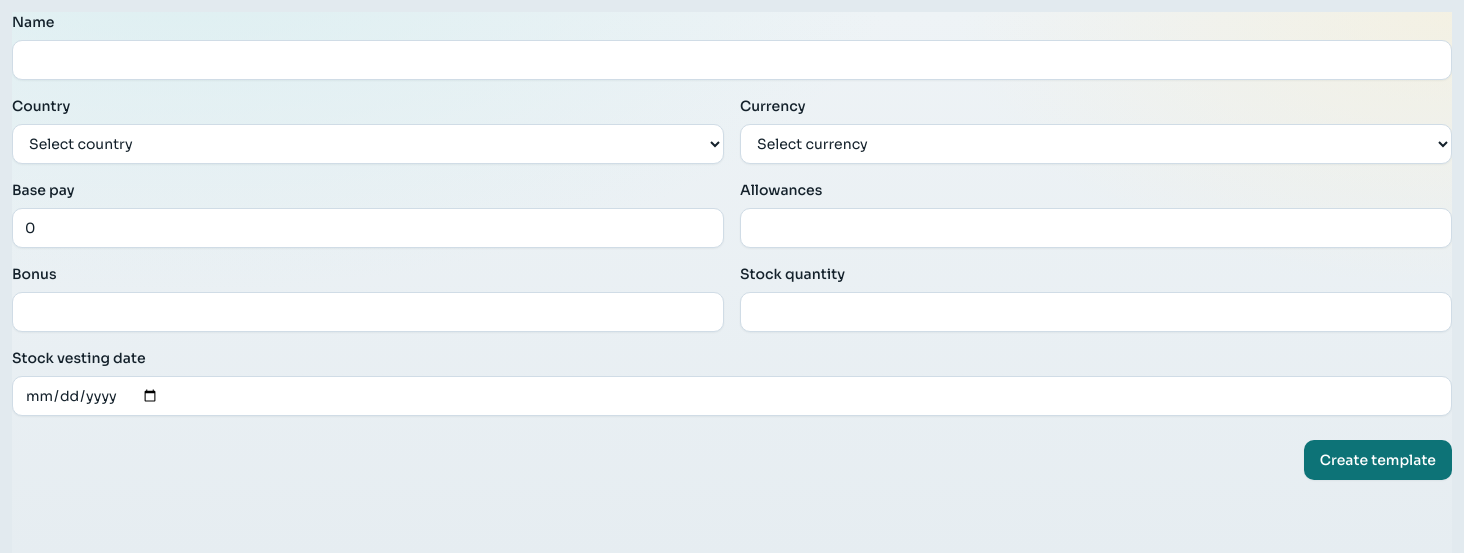
TemplateForm › shows validation errors when required fields are empty
The width and height of the screenshot is (1464, 553).
What coordinates should you click on to do the following:
click the button "Create template"
I would click on:
 (1378, 460)
Its box is [1304, 440, 1452, 480].
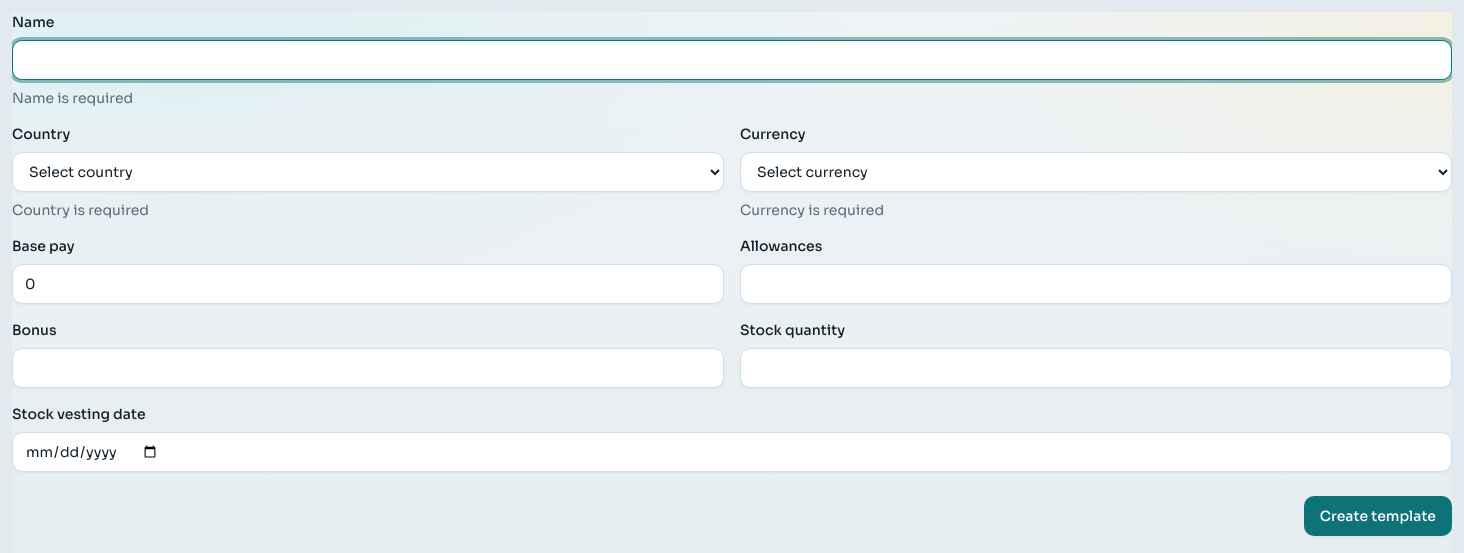
Check: the text "Name is required" is shown, box [12, 89, 133, 107]
Check: the text "Country is required" is shown, box [12, 201, 149, 219]
Check: the text "Currency is required" is shown, box [740, 201, 884, 219]
